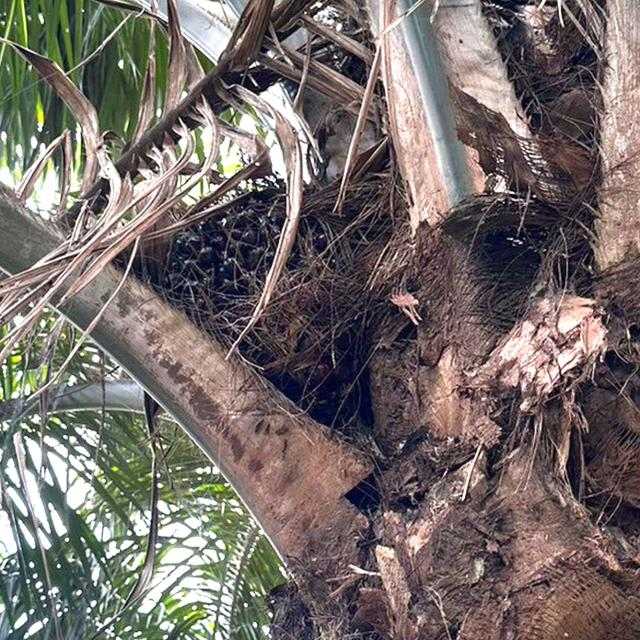almost: (160, 179, 383, 433)
